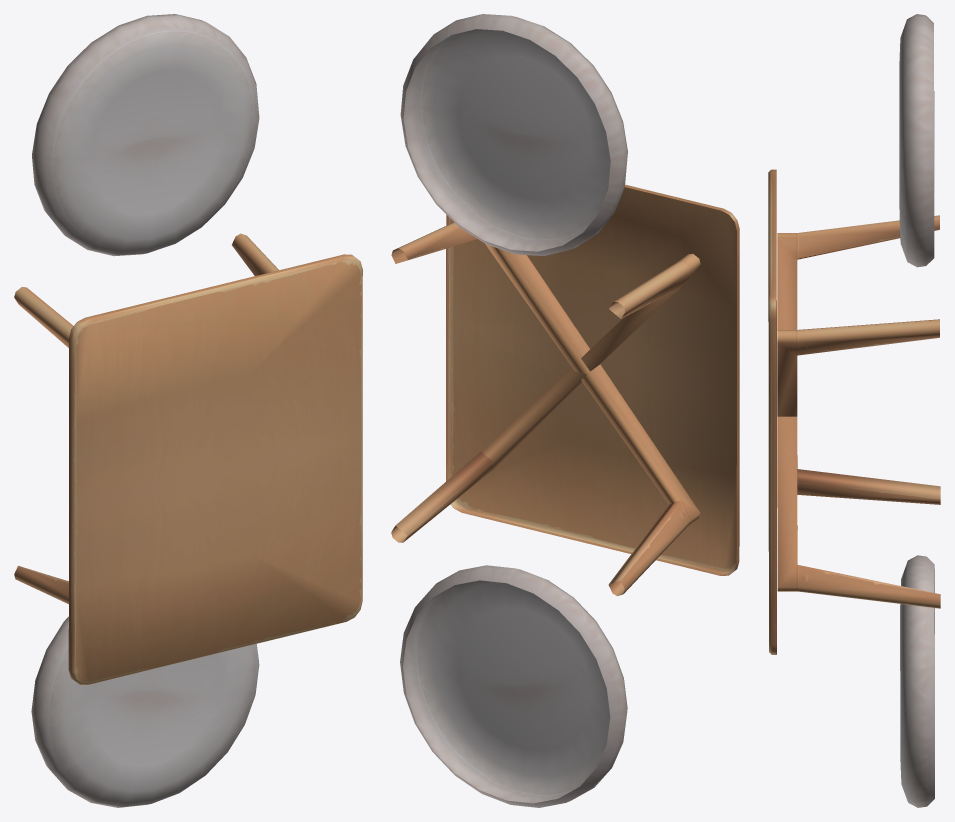
Rendered from miside_table_room.glb.
The picture shows the model from 3 angles, left to right: view 1: azimuth 30°, elevation 25°; view 2: azimuth 150°, elevation 25°; view 3: azimuth 270°, elevation 25°; orthographic projection. The views are drawn at different scales.
Visible parts, largest first — view 1: obj20_0; view 2: obj20_0; view 3: obj20_0.
Boxes of the visible parts, <box> form: obj20_0: <box>14,14,362,807</box>; obj20_0: <box>391,14,739,807</box>; obj20_0: <box>768,14,940,807</box>.
Size of the model in its own units: 0.000645 by 0.00166 by 0.000337.
1 material, 1 textured.
